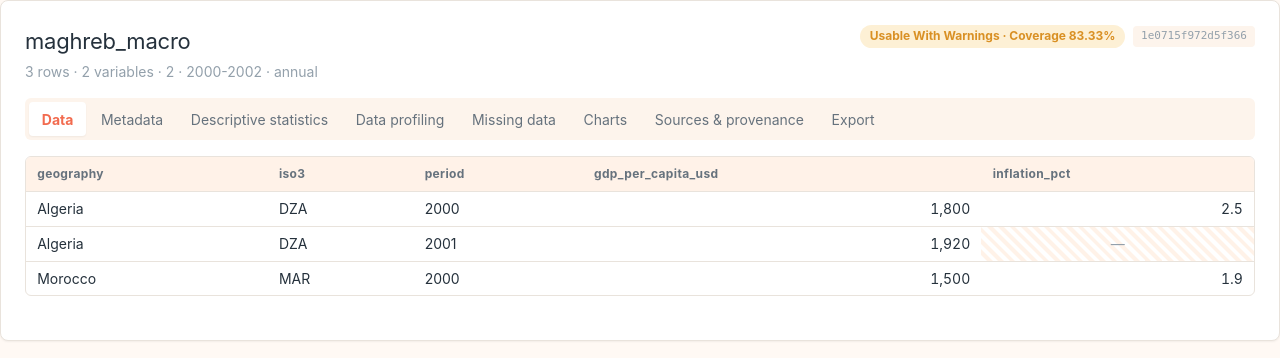
Test case: DatasetWorkspace › shows missing-data analysis with the never-imputed note
Check: the heading "maghreb_macro" is shown, box [25,28,191,54]
Click the tab "Missing data".
click(514, 119)  # box [459,102,569,136]
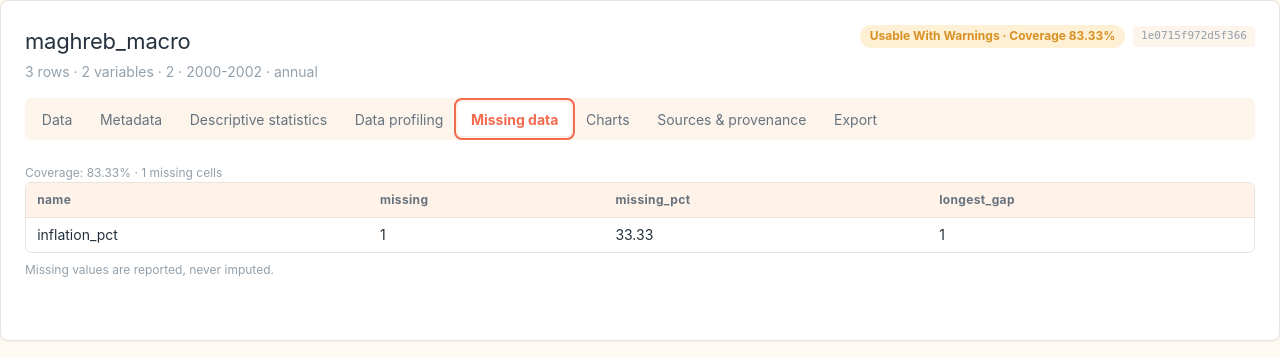
Check: the text "Missing values are reported, never imputed." is shown, box [25,262,274,277]
